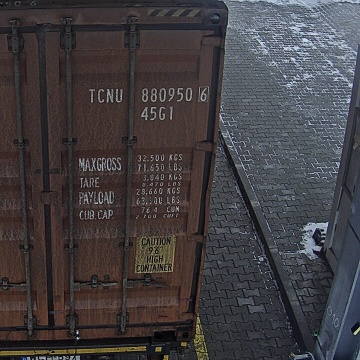serial_id: (88, 88, 207, 102)
